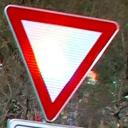preferencia: (2, 0, 122, 123)
